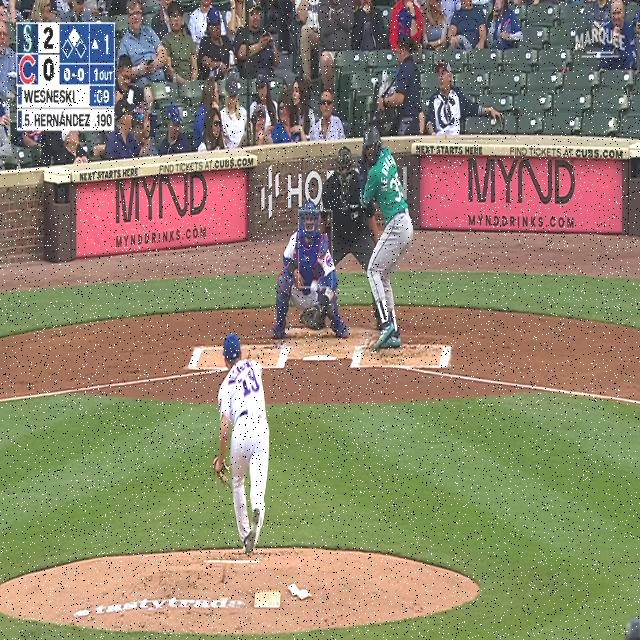baseball: (310, 280, 318, 292)
